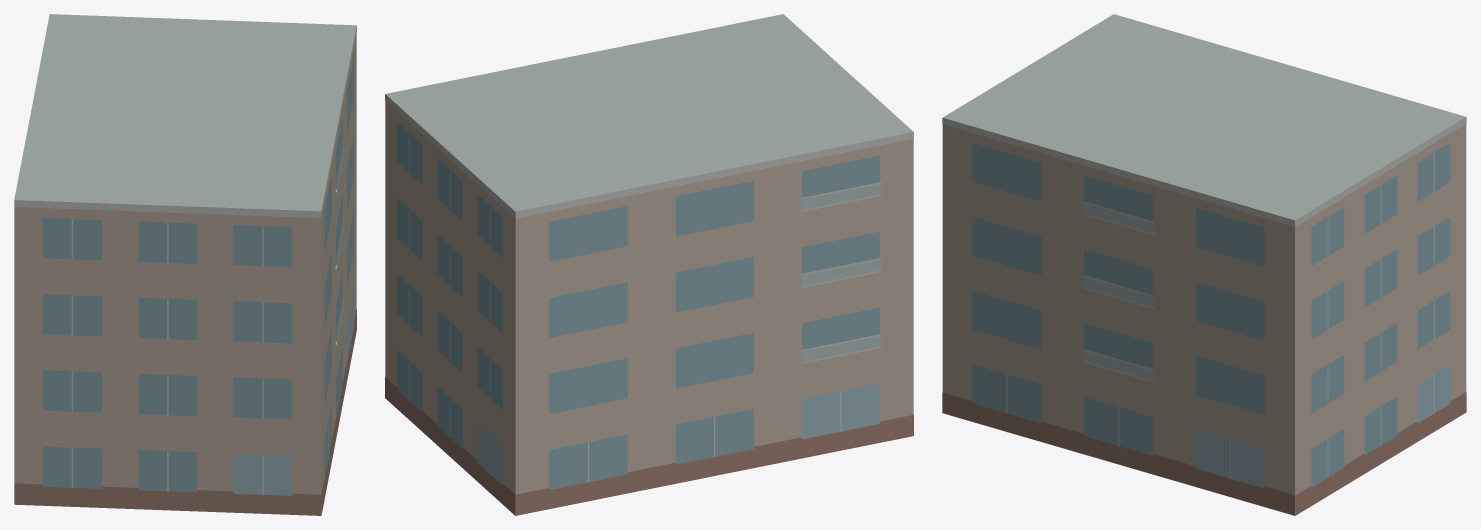
File: survey-upis-33044395.glb
The picture shows the model from 3 angles, left to right: view 1: azimuth 30°, elevation 25°; view 2: azimuth 150°, elevation 25°; view 3: azimuth 270°, elevation 25°; orthographic projection. The views are drawn at different scales.
Parts seen in each view (by area): view 1: survey-upis-33044395.tmp; view 2: survey-upis-33044395.tmp; view 3: survey-upis-33044395.tmp.
Part boxes in pixels (x1,y1,x2,y2): survey-upis-33044395.tmp: (14,14,356,515); survey-upis-33044395.tmp: (385,14,913,515); survey-upis-33044395.tmp: (942,14,1466,515).
Size of the model in its own units: 16.26 by 10.85 by 17.44.
